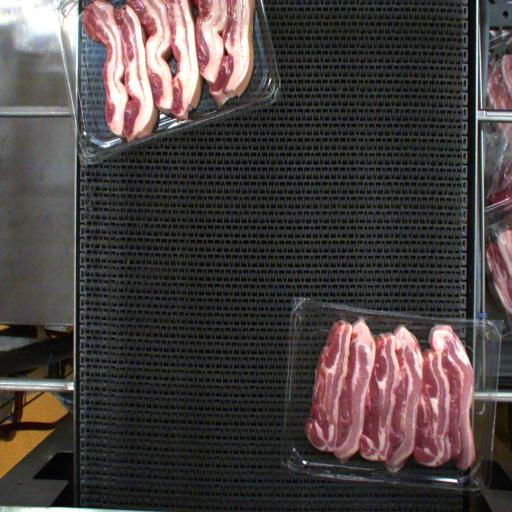packaging-error: (334, 310, 350, 323), (357, 311, 368, 324)
